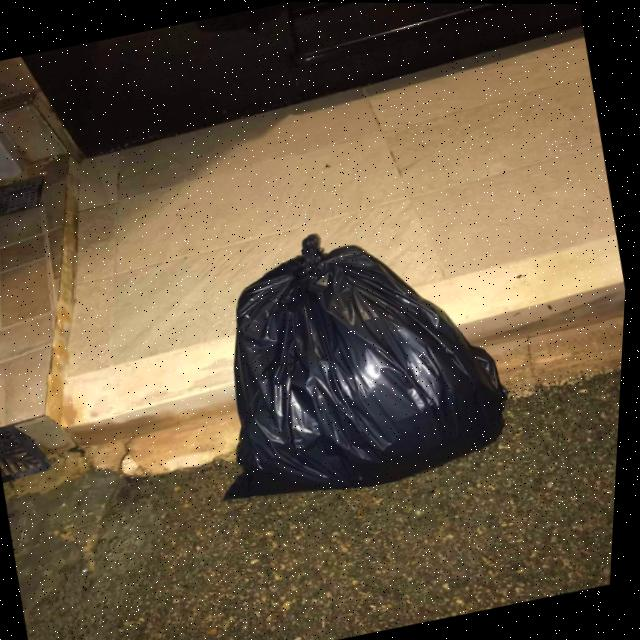Mixed Waste -Black Bag-: (180, 199, 535, 518)
